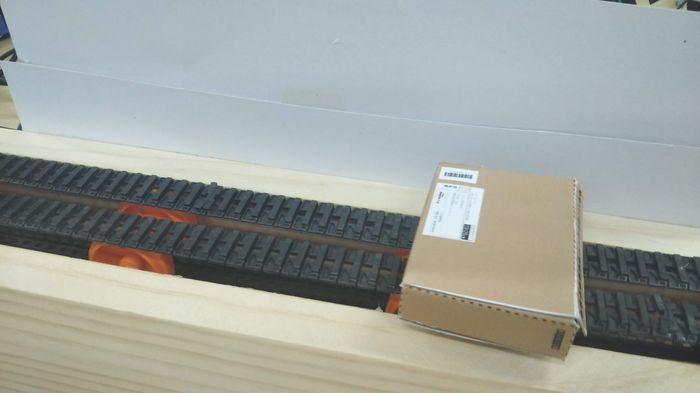box2: (398, 159, 588, 363)
